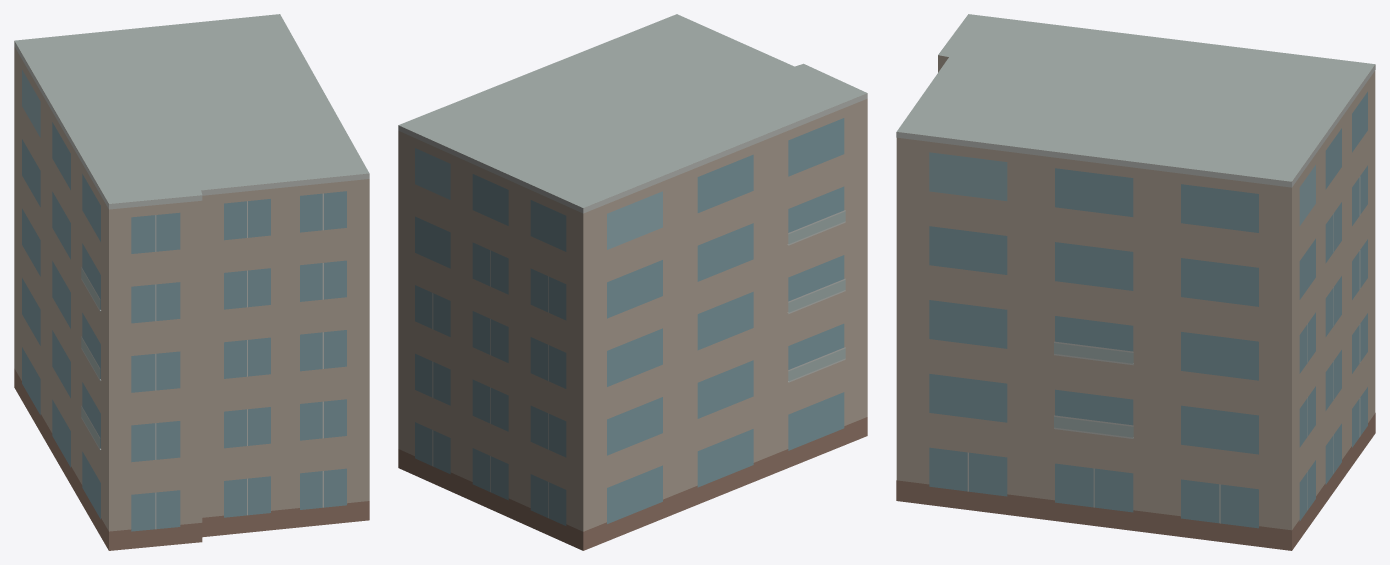
File: survey-upis-32873960.glb
The picture shows the model from 3 angles, left to right: view 1: azimuth 30°, elevation 25°; view 2: azimuth 150°, elevation 25°; view 3: azimuth 270°, elevation 25°; orthographic projection. The views are drawn at different scales.
Parts seen in each view (by area): view 1: survey-upis-32873960.tmp; view 2: survey-upis-32873960.tmp; view 3: survey-upis-32873960.tmp.
Part boxes in pixels (left/top/right/bottom): survey-upis-32873960.tmp: left=14, top=14, right=369, bottom=550; survey-upis-32873960.tmp: left=398, top=14, right=867, bottom=550; survey-upis-32873960.tmp: left=896, top=14, right=1375, bottom=550.
Bounding box in the file's own units: 15.12 × 15.5 × 18.24.
